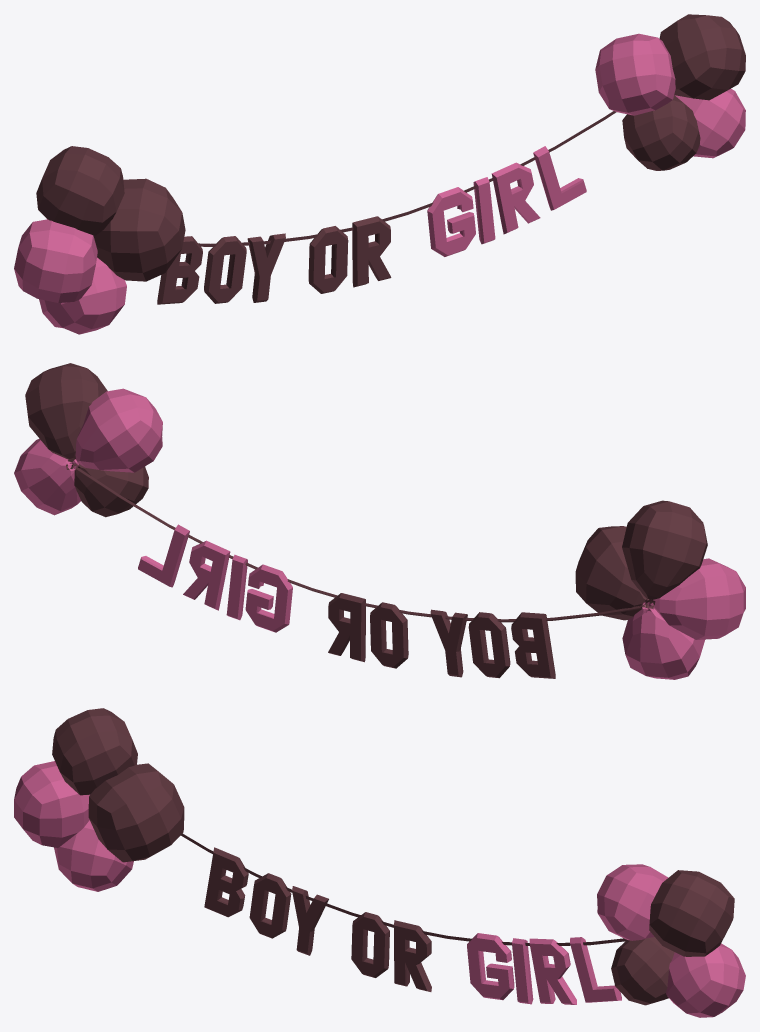
File: props-balloons-sign-boy-or-girl-big.glb
3 renders of one model, top to bottom at view 1: azimuth 30°, elevation 25°; view 2: azimuth 150°, elevation 25°; view 3: azimuth 330°, elevation 25°, orthographic. The views are drawn at different scales.
Visible parts, largest first — view 1: balloons-sign-boy-or-girl-big; view 2: balloons-sign-boy-or-girl-big; view 3: balloons-sign-boy-or-girl-big.
Boxes of the visible parts, box(x1,y1,x2,y2) form: balloons-sign-boy-or-girl-big: box(14, 14, 745, 334); balloons-sign-boy-or-girl-big: box(14, 363, 745, 679); balloons-sign-boy-or-girl-big: box(14, 708, 745, 1017).
Size of the model in its own units: 3.09 by 0.8896 by 0.3934.
